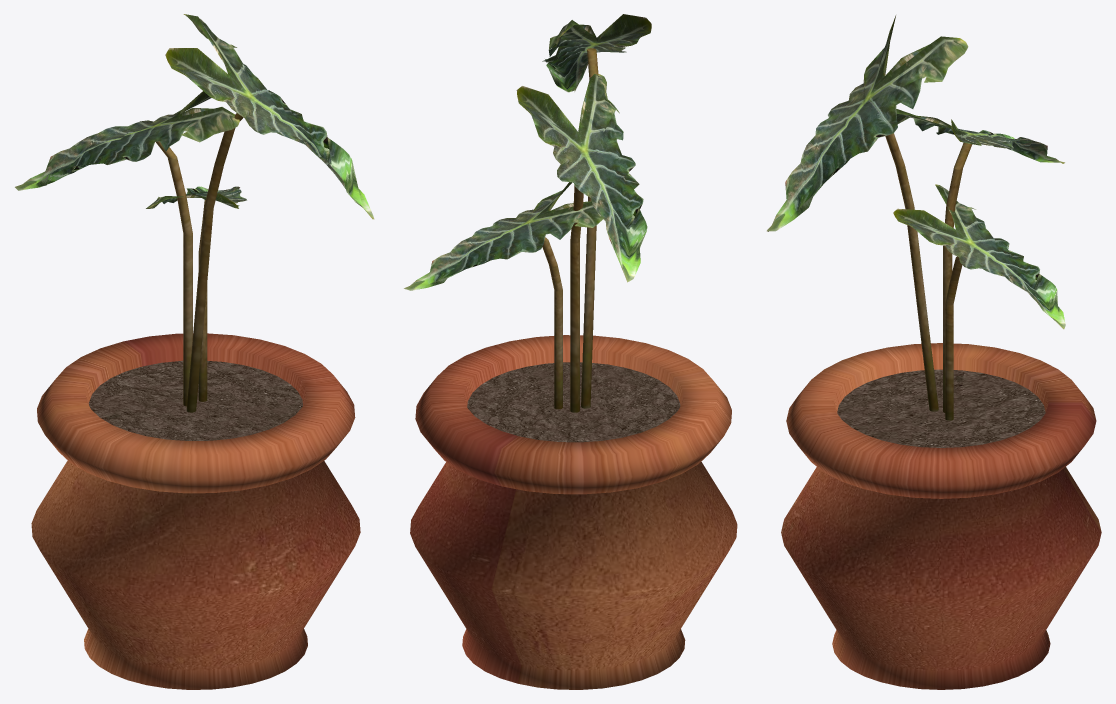
The model's file is mask-plant.fbx.
3 views of the same model, side by side, from view 1: azimuth 30°, elevation 25°; view 2: azimuth 150°, elevation 25°; view 3: azimuth 270°, elevation 25° (orthographic). The views are drawn at different scales.
Visible parts, largest first — view 1: Plane.007, Plane, Plane.006, Plane.002, Plane.005, Plane.001, Plane.004, Plane.003; view 2: Plane.007, Plane, Plane.002, Plane.004, Plane.006, Plane.005, Plane.001, Plane.003; view 3: Plane.007, Plane, Plane.006, Plane.004, Plane.005, Plane.002, Plane.001, Plane.003.
Part boxes in pixels (box(x1,y1,x2,y2)): Plane.007: box(31, 333, 360, 689); Plane: box(88, 360, 302, 440); Plane.006: box(165, 14, 374, 219); Plane.002: box(15, 91, 239, 190); Plane.005: box(186, 113, 243, 412); Plane.001: box(155, 141, 192, 406); Plane.004: box(146, 186, 246, 208); Plane.003: box(198, 200, 207, 401); Plane.007: box(410, 335, 737, 689); Plane: box(467, 362, 680, 442); Plane.002: box(516, 73, 647, 282); Plane.004: box(404, 182, 603, 290); Plane.006: box(542, 14, 651, 92); Plane.005: box(581, 48, 598, 408); Plane.001: box(570, 185, 583, 412); Plane.003: box(542, 237, 562, 409); Plane.007: box(781, 343, 1101, 689); Plane: box(837, 369, 1045, 447); Plane.006: box(767, 15, 968, 231); Plane.004: box(893, 184, 1065, 329); Plane.005: box(885, 133, 938, 411); Plane.002: box(896, 109, 1064, 163); Plane.001: box(943, 143, 972, 412); Plane.003: box(945, 256, 962, 420).
Bounding box in the file's own units: 45.16 × 94.53 × 47.24.
Materials: 8 (8 with a texture image).
